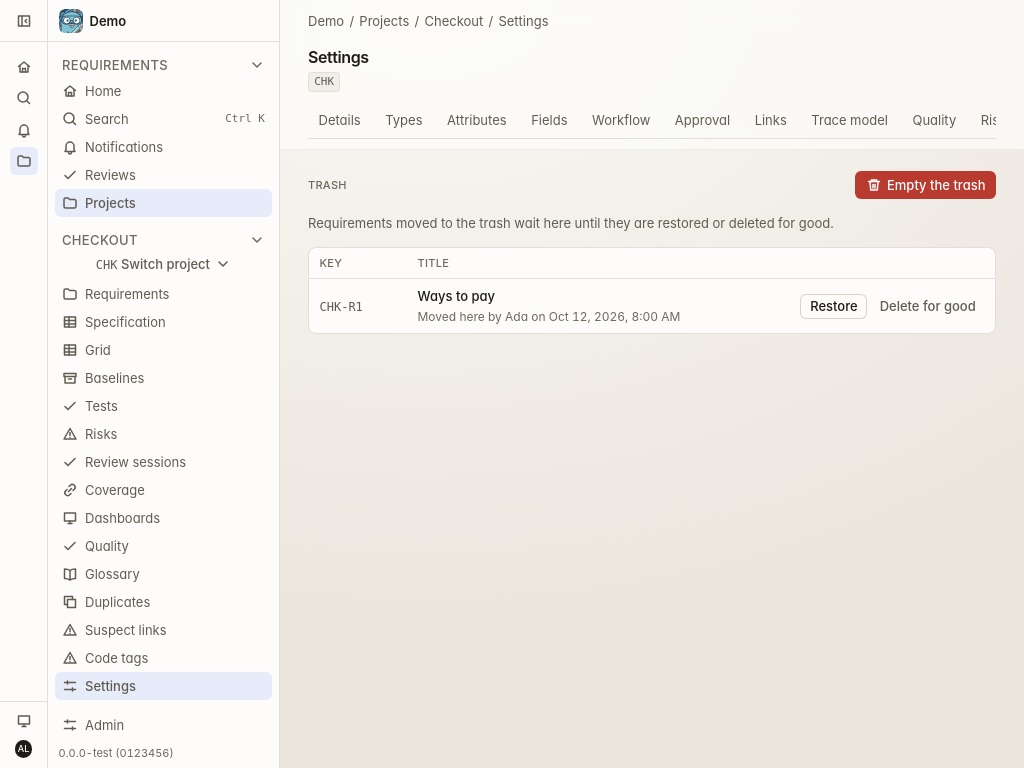
emptying the trash › asks first, and empties it only once confirmed
Check: the text "Ways to pay" is shown, box [418,288,495,304]
Click the button "Empty the trash" at coordinates (926, 185), box [855,171,996,199]
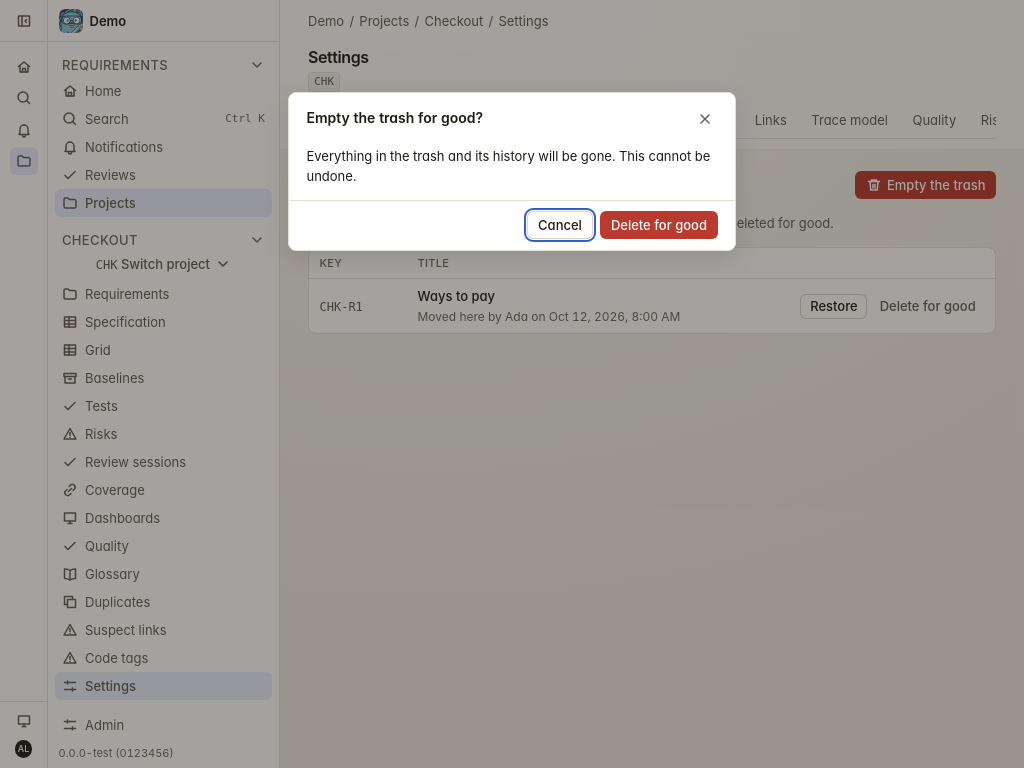
Check: the dialog "Empty the trash for good?" shows "Everything in the trash and its history will be gone. This cannot be undone.", box [306,148,710,184]
Click the button "Cancel" at coordinates (560, 225), box [527,211,593,239]
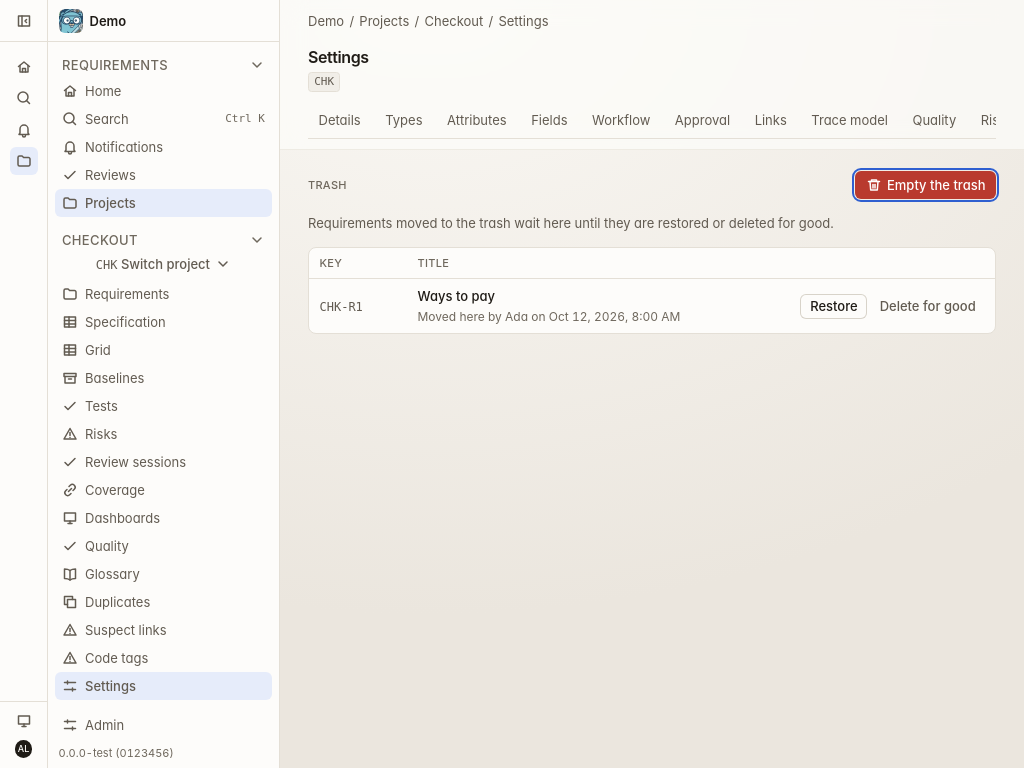
Check: the dialog is gone
Click the button "Empty the trash" at coordinates (926, 185), box [855,171,996,199]
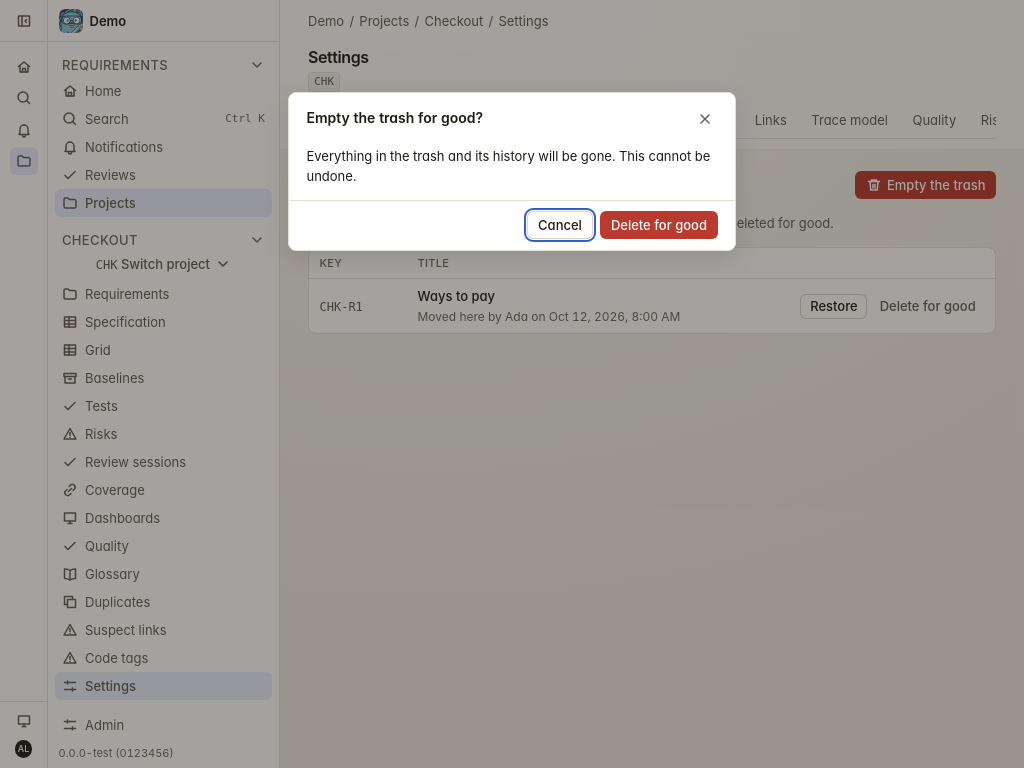
Click the button "Delete for good" at coordinates (659, 225), box [600,211,718,239]
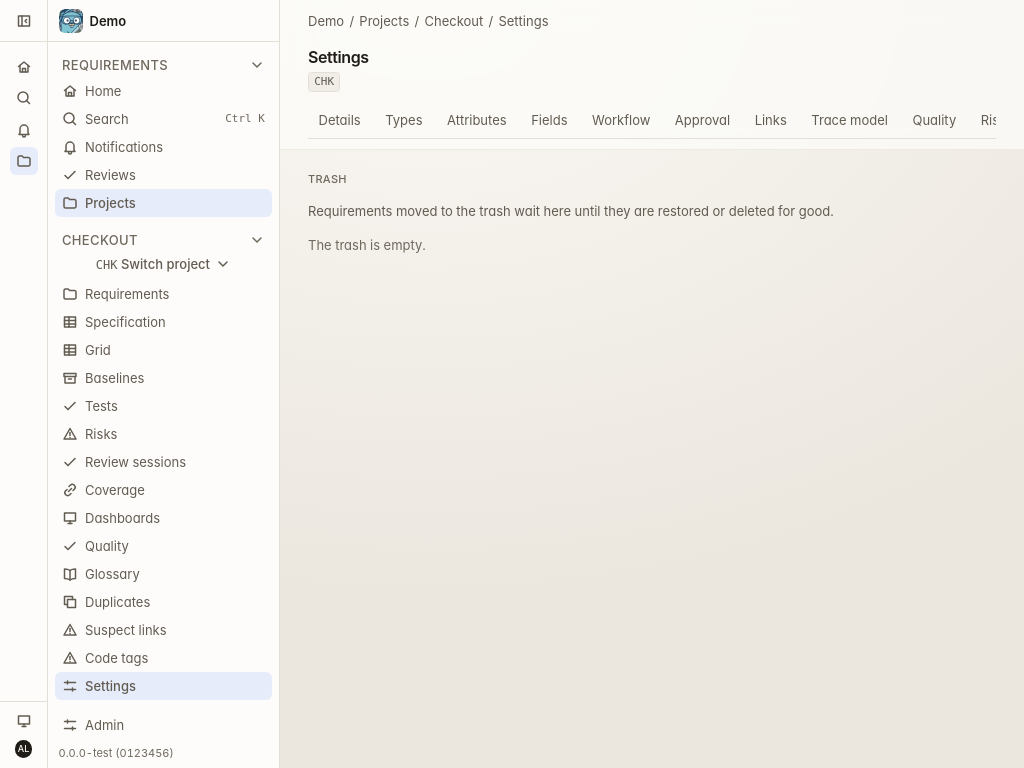
Check: the text "The trash is empty." is shown, box [308,237,426,253]
Check: the button "Empty the trash" is gone
